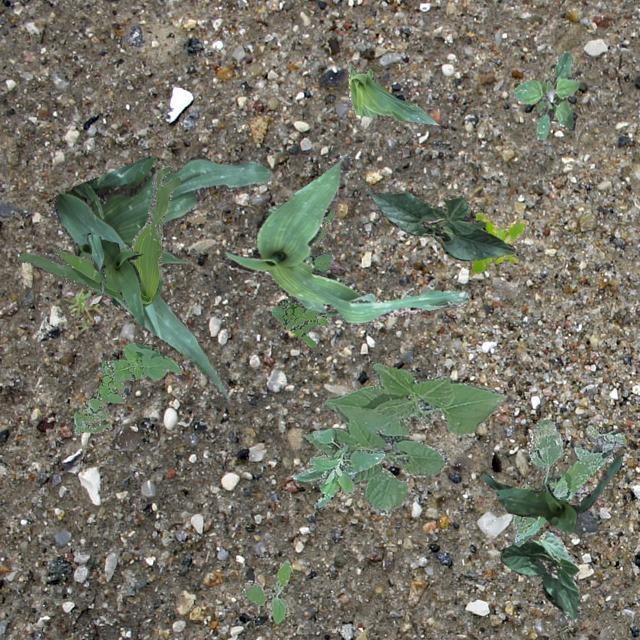crop: (53, 154, 270, 400), (222, 153, 468, 324), (300, 362, 507, 514), (482, 454, 622, 532), (366, 190, 514, 260), (500, 528, 580, 618), (347, 62, 437, 124), (85, 232, 144, 326)
weed: (17, 162, 180, 306), (512, 416, 624, 546), (72, 342, 180, 434), (272, 210, 334, 346), (292, 428, 384, 508), (512, 50, 578, 142), (470, 210, 526, 272), (238, 558, 292, 622), (62, 286, 101, 330)
